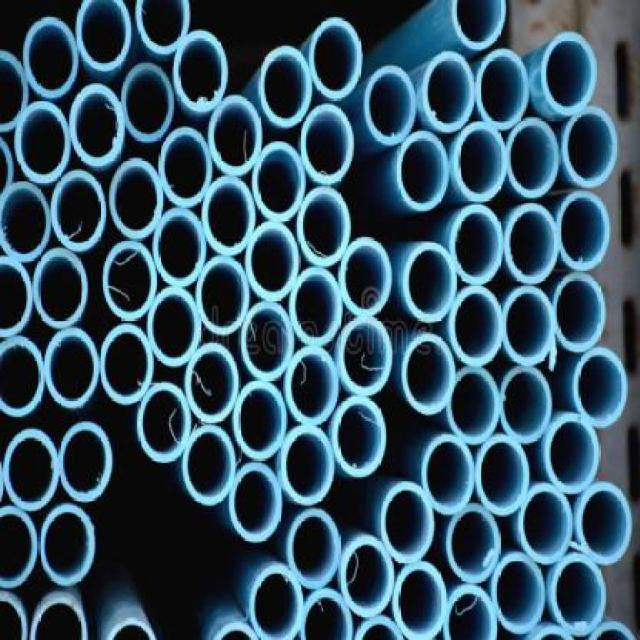pipe: (302, 17, 363, 100), (549, 554, 607, 638), (172, 29, 228, 116), (541, 413, 601, 494), (515, 484, 574, 566), (69, 83, 125, 169), (576, 483, 634, 566), (13, 101, 71, 184), (338, 535, 395, 619), (276, 426, 335, 507), (561, 106, 619, 188), (2, 429, 59, 512), (39, 504, 95, 588), (555, 190, 612, 272), (490, 553, 546, 636), (401, 333, 457, 416), (50, 169, 106, 252), (446, 286, 503, 367), (330, 397, 387, 478), (474, 48, 530, 130), (379, 482, 435, 564), (299, 103, 355, 185), (207, 94, 263, 176), (335, 317, 393, 396), (476, 435, 531, 518), (451, 122, 508, 202), (297, 186, 352, 268), (181, 425, 236, 507), (44, 328, 99, 410), (22, 17, 77, 99), (447, 205, 503, 285), (574, 347, 629, 428), (504, 203, 559, 284), (286, 509, 341, 590), (184, 343, 239, 424), (136, 383, 191, 464), (102, 241, 157, 322), (396, 130, 450, 212), (158, 126, 212, 208), (109, 158, 163, 240), (100, 324, 154, 406), (58, 422, 112, 504), (446, 505, 502, 584), (232, 382, 287, 462), (228, 463, 282, 544), (252, 141, 306, 222), (258, 45, 312, 126), (147, 287, 201, 368), (403, 243, 458, 322), (284, 347, 339, 426), (241, 302, 295, 382), (246, 222, 300, 302), (202, 176, 256, 256), (196, 256, 250, 336), (33, 248, 87, 328), (422, 435, 475, 516), (364, 65, 417, 146), (447, 367, 501, 446), (339, 237, 393, 316), (289, 267, 343, 346), (121, 62, 174, 142), (508, 117, 560, 198), (555, 272, 607, 352), (504, 286, 556, 366), (392, 563, 446, 640), (248, 563, 302, 640), (153, 208, 206, 286), (0, 181, 50, 262), (502, 367, 553, 444), (75, 0, 129, 72), (428, 53, 475, 134), (548, 40, 593, 106)
